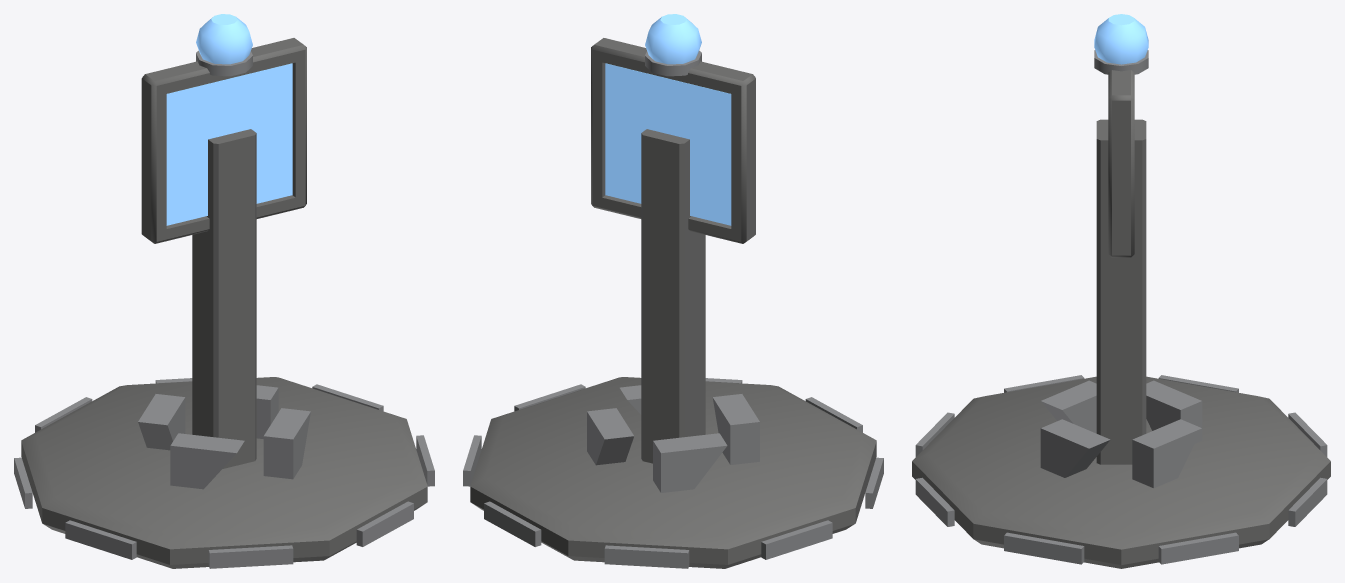
The model's file is obj_zone_marker.glb.
3 views of the same model, side by side, from view 1: azimuth 30°, elevation 25°; view 2: azimuth 150°, elevation 25°; view 3: azimuth 270°, elevation 25° (orthographic).
Parts seen in each view (by area): view 1: obj_zone_marker; view 2: obj_zone_marker; view 3: obj_zone_marker.
Part boxes in pixels (x1,y1,x2,y2): obj_zone_marker: (14, 14, 434, 568); obj_zone_marker: (463, 14, 883, 568); obj_zone_marker: (912, 14, 1330, 568).
Bounding box in the file's own units: 2.2 × 2.75 × 2.2.
